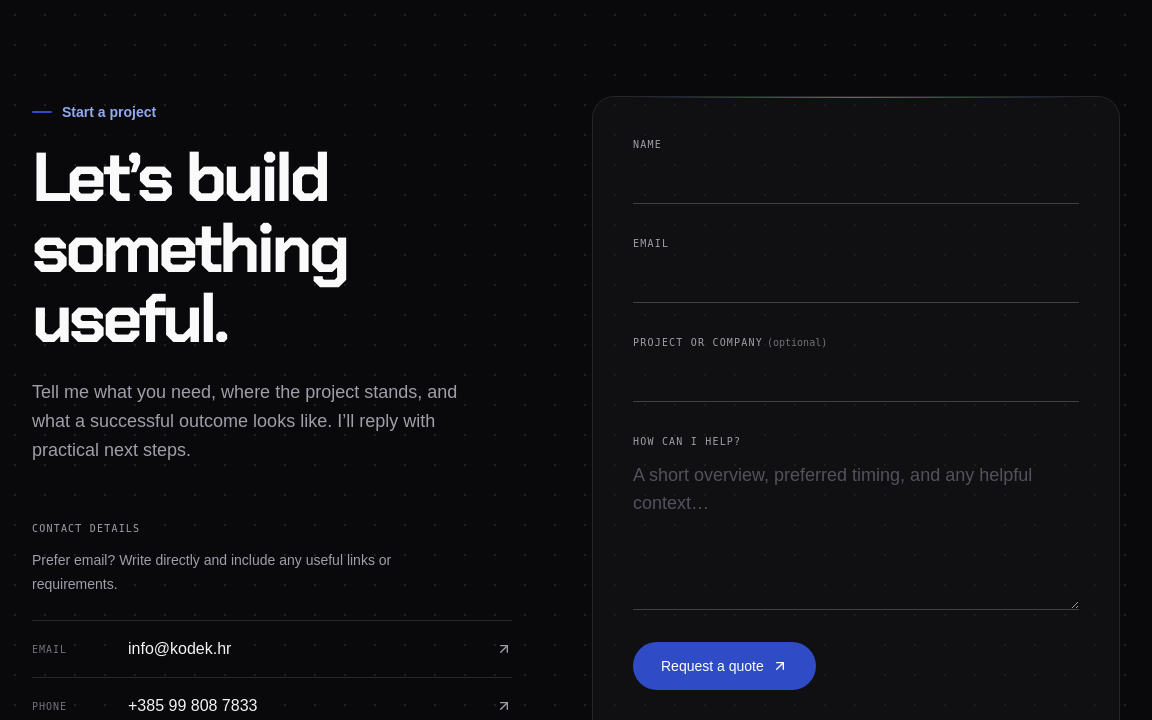
ContactPage client-side validation › rejects a malformed email address
The image size is (1152, 720).
Type "Ada Lovelace" into the field labelled "Name" at (856, 180), box [633,156,1079,204]
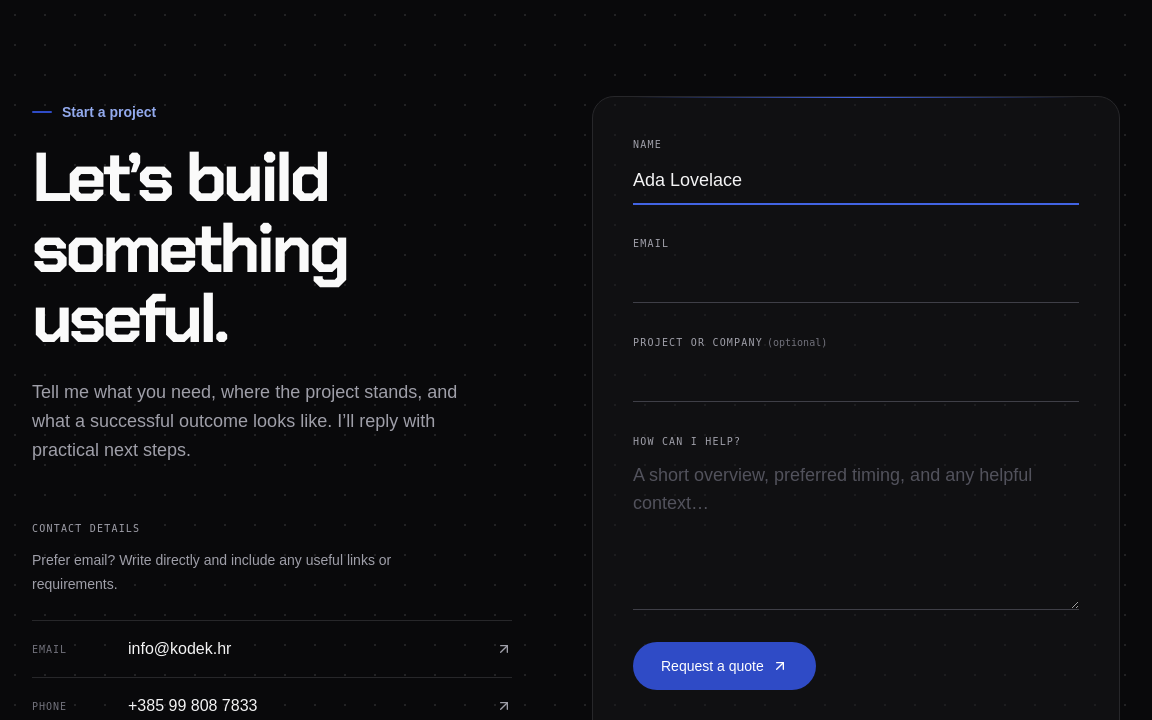
Type "ada@@example" into the field labelled "Email" at (856, 279), box [633,255,1079,303]
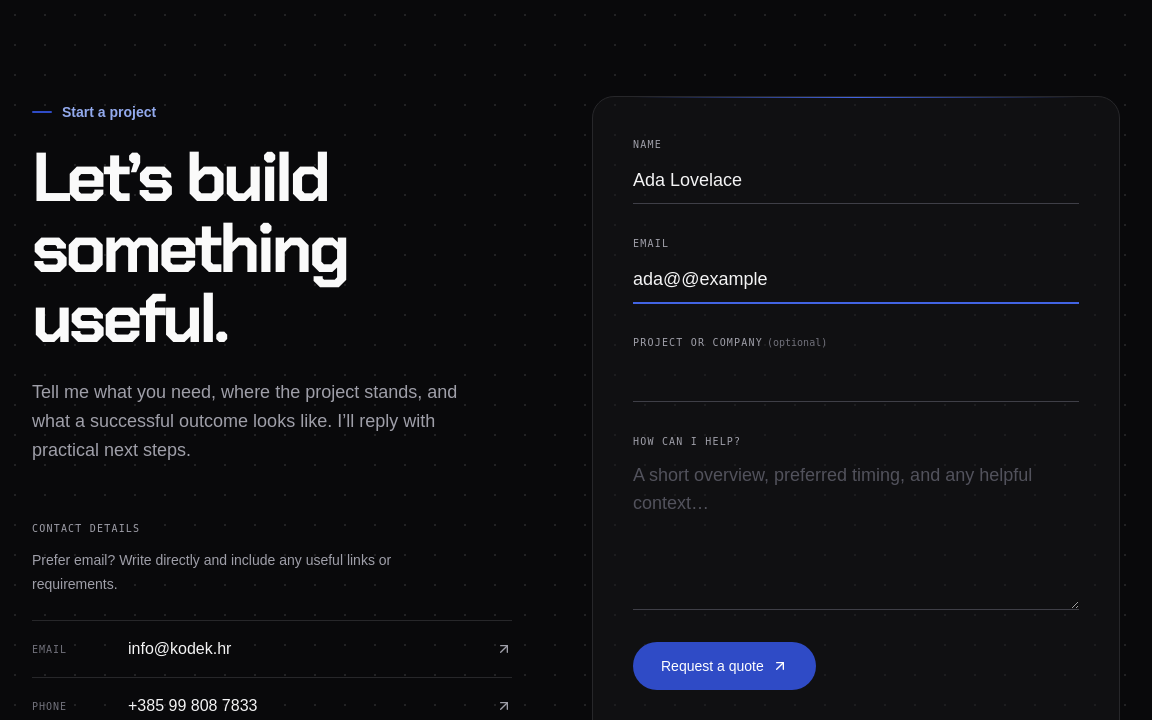
Type "This message is comfortably over ten characters long." into the text box labelled "How can I help?" at (856, 532), box [633,453,1079,610]
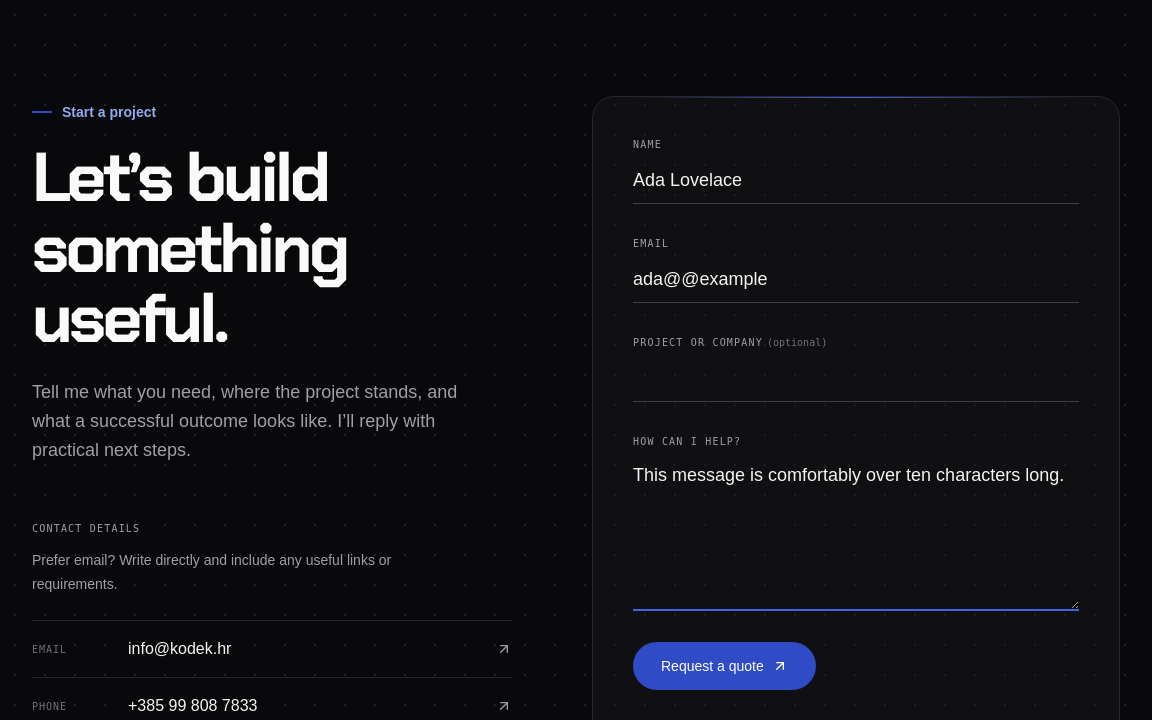
Click the button "Request a quote" at (724, 666), box [633,642,816,690]
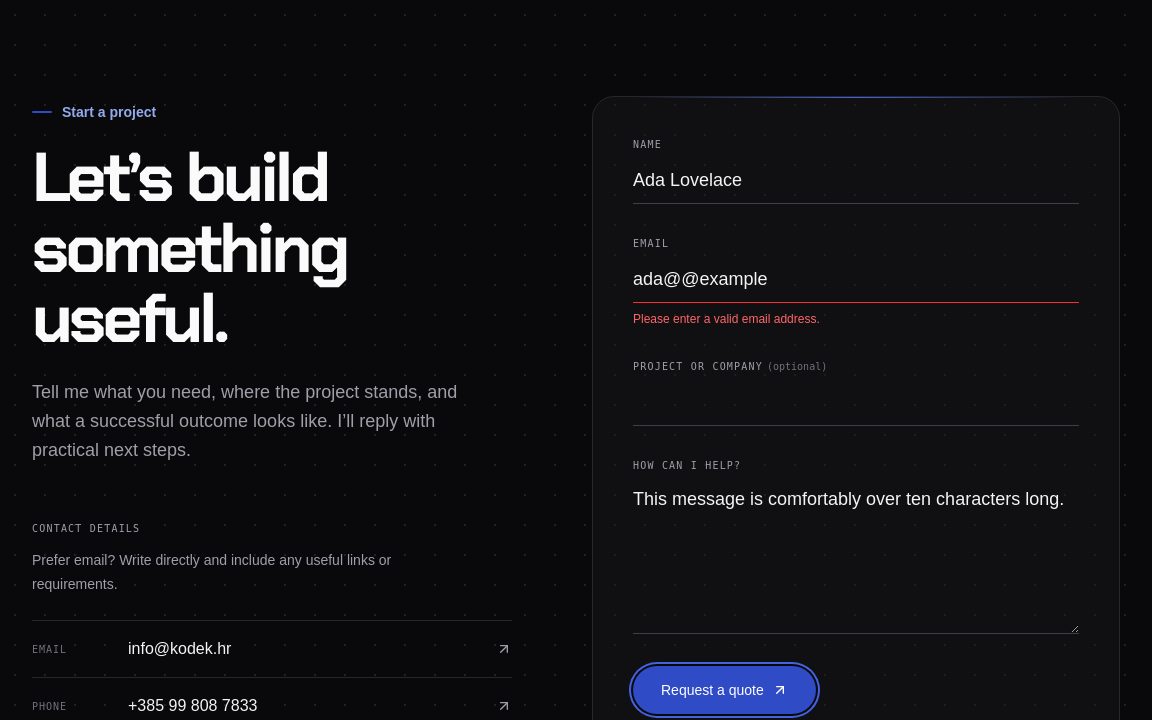
Check: the text "Please enter a valid email address." is shown, box [633,312,820,326]
